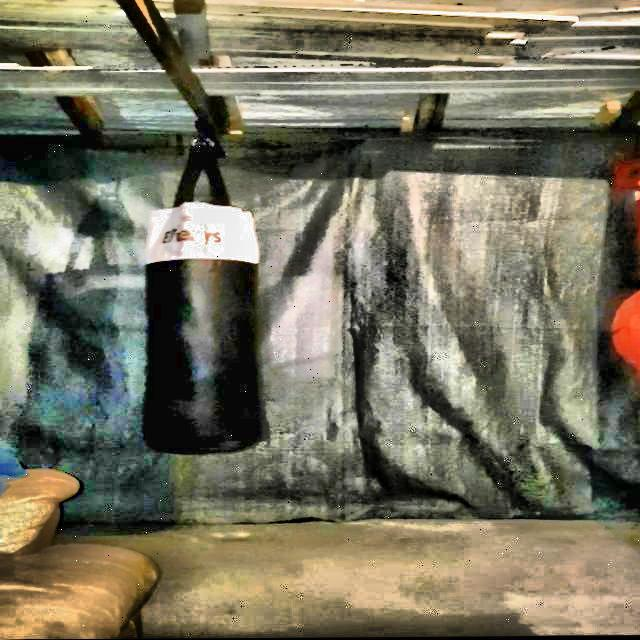boxing-bag: (139, 117, 263, 459)
